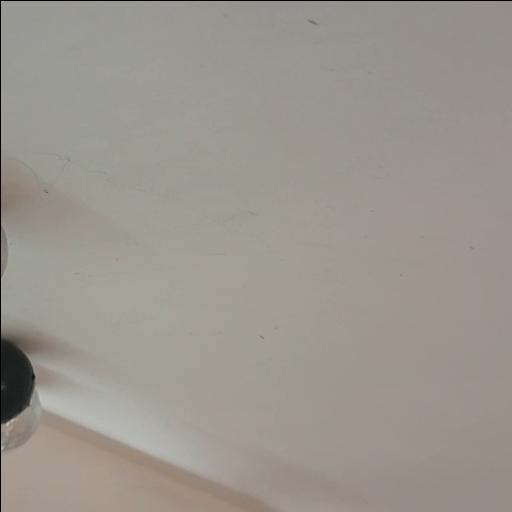alive: (0, 388, 40, 452), (0, 221, 5, 281)
dead: (0, 342, 35, 424)
